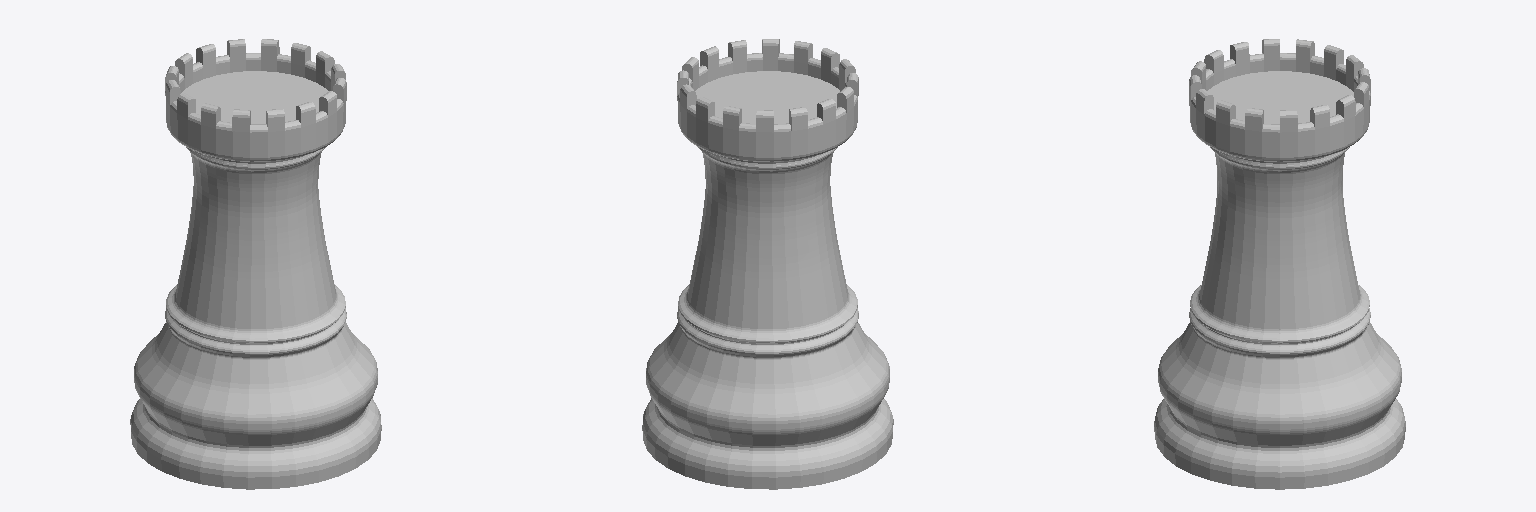
The model's file is rock1.obj.
3 views of the same model, side by side, from view 1: azimuth 30°, elevation 25°; view 2: azimuth 150°, elevation 25°; view 3: azimuth 270°, elevation 25° (orthographic).
Parts seen in each view (by area): view 1: Dark_Rock_1; view 2: Dark_Rock_1; view 3: Dark_Rock_1.
Part boxes in pixels (left/top/right/bottom): Dark_Rock_1: left=130, top=39, right=381, bottom=489; Dark_Rock_1: left=642, top=39, right=893, bottom=489; Dark_Rock_1: left=1154, top=39, right=1405, bottom=489.
Size of the model in its own units: 1.28 by 2.02 by 1.28.